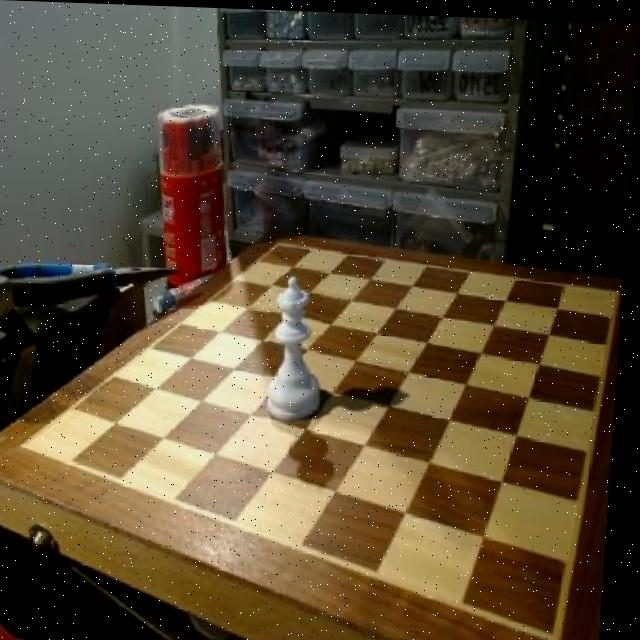white-pawn: (269, 275, 328, 422)
